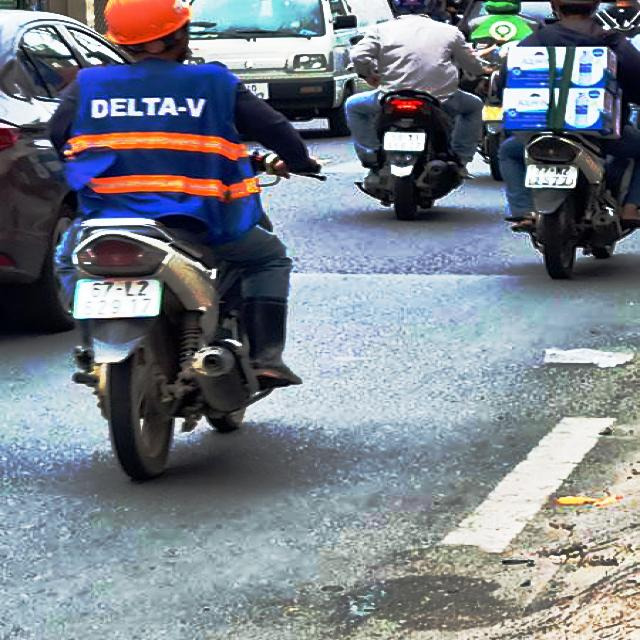license_plate: (76, 281, 165, 320), (527, 166, 580, 189)
